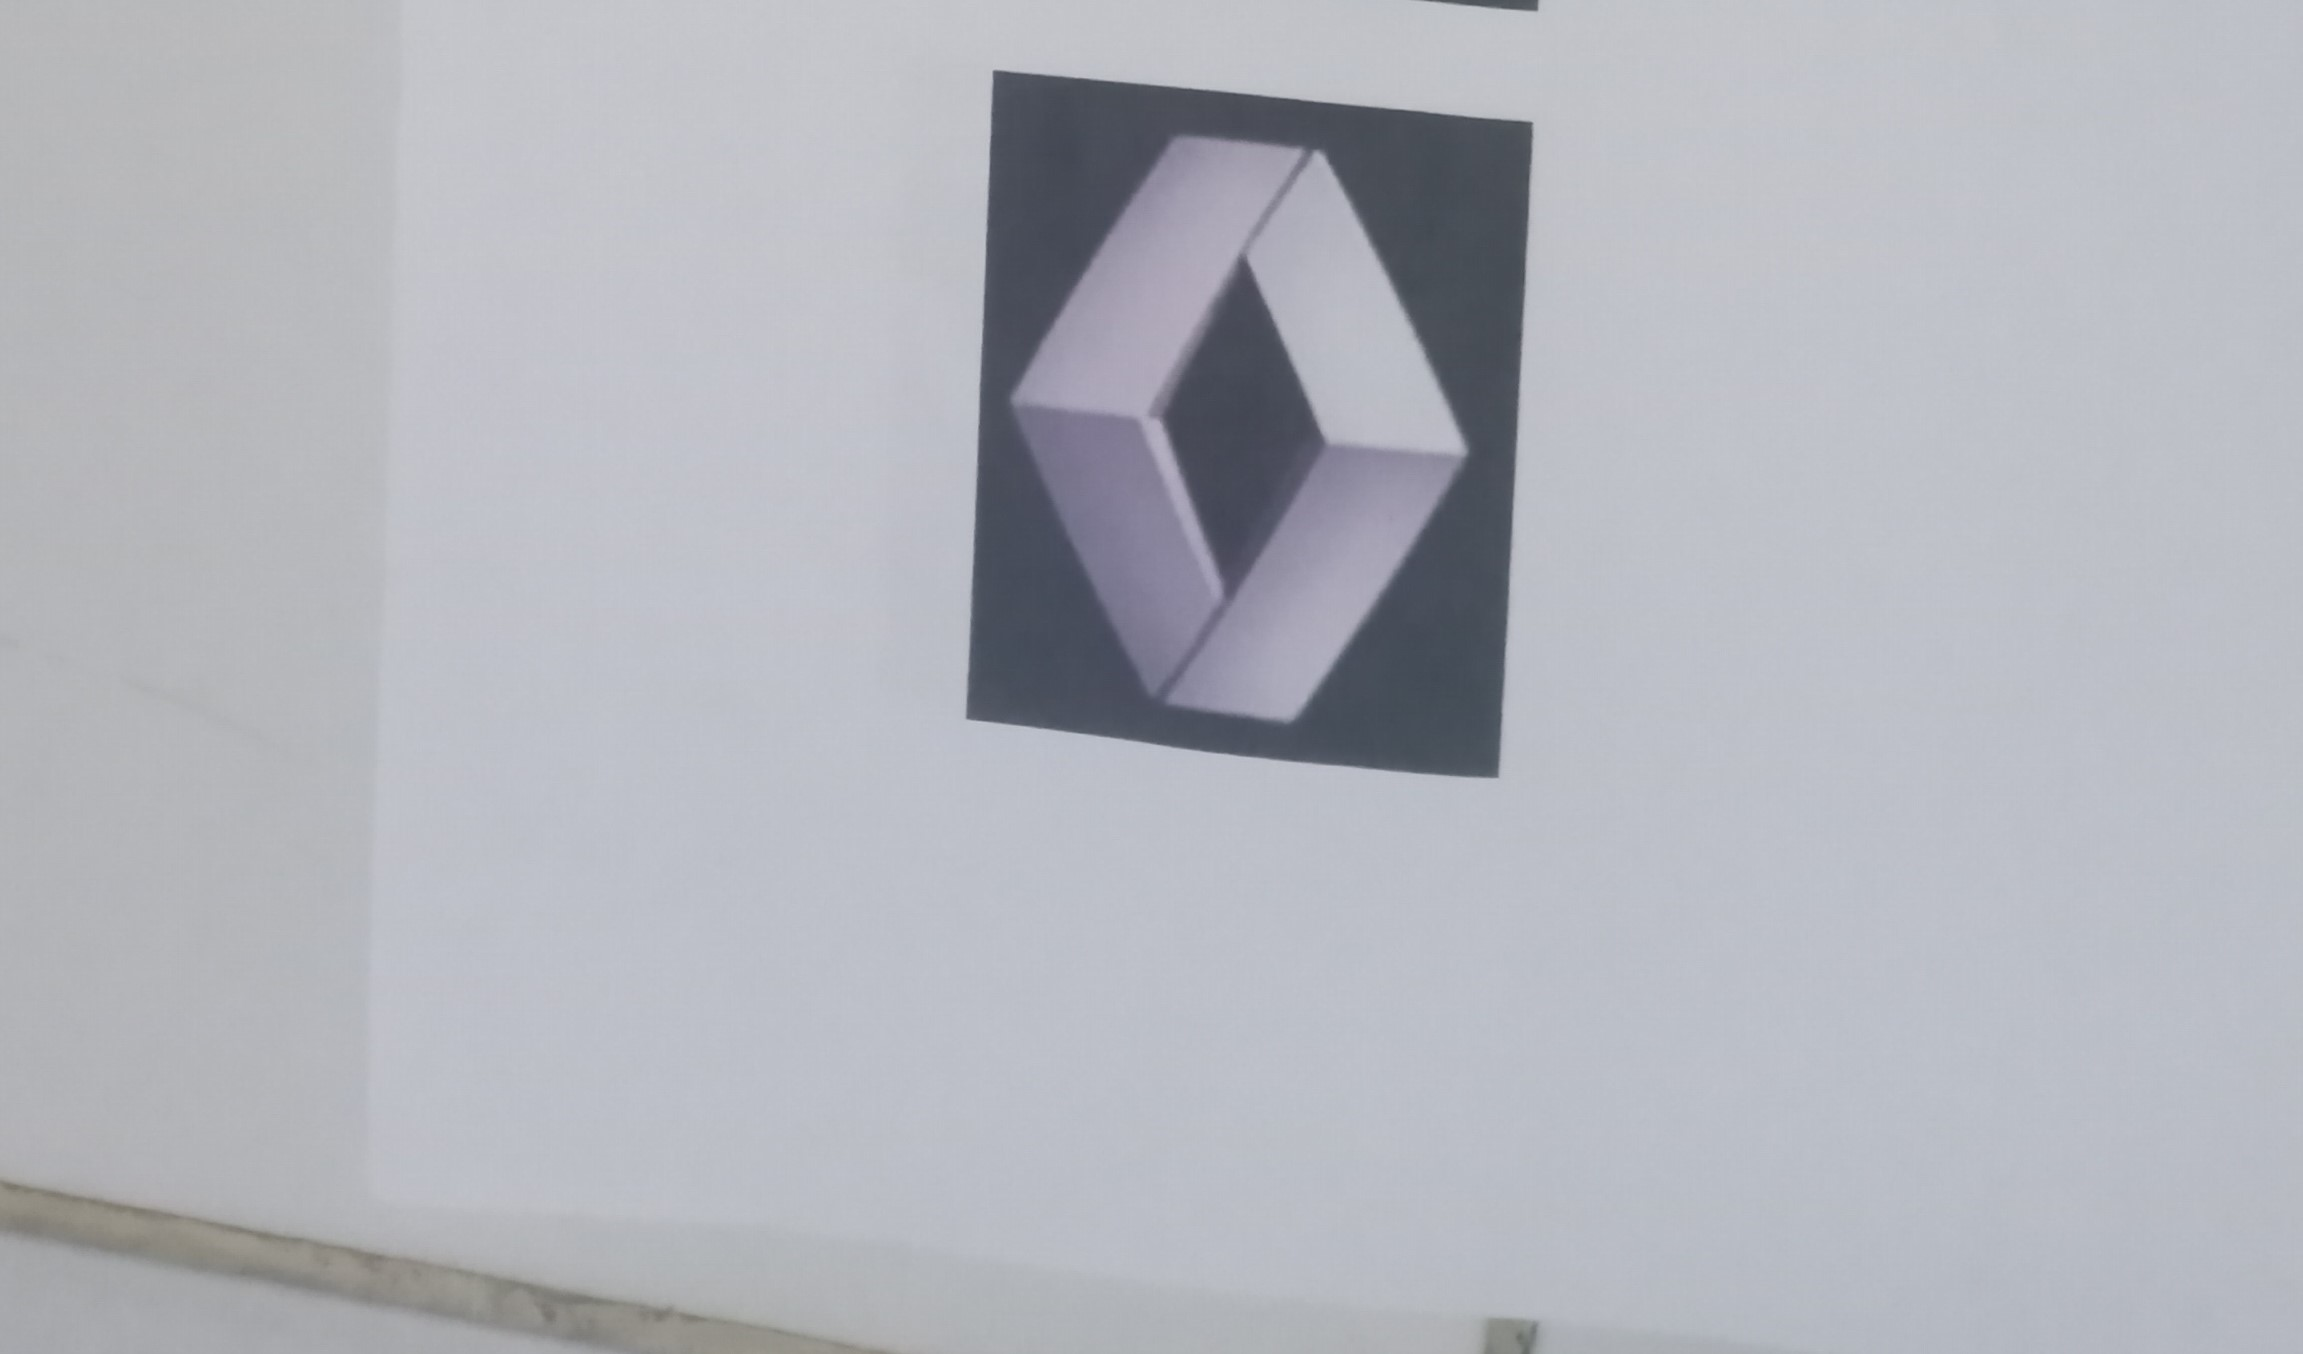Renault: (990, 105, 1491, 748)
